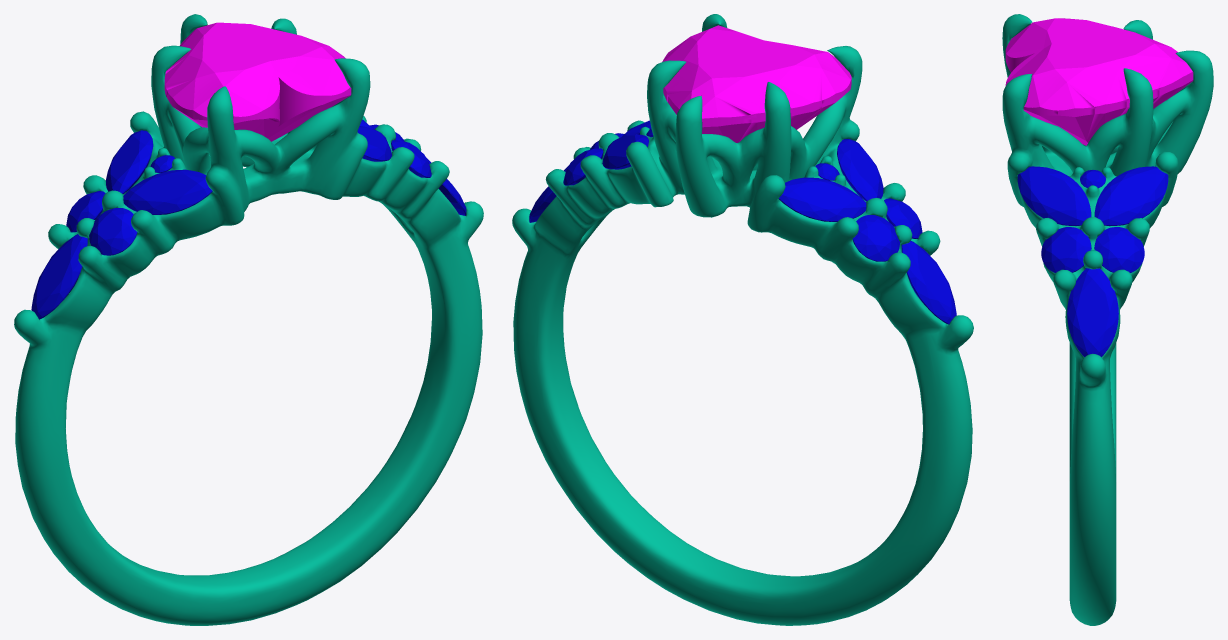
Rendered from BE1D732_HT_200ct_RENDER.glb.
The picture shows the model from 3 angles, left to right: view 1: azimuth 30°, elevation 25°; view 2: azimuth 150°, elevation 25°; view 3: azimuth 270°, elevation 25°; orthographic projection. The views are drawn at different scales.
Visible parts, largest first — view 1: Metal 01, CS_Diamond_Heart, Diamond_Marquise_side.005, Diamond_Marquise_side.003, Diamond_Marquise_side.004, Diamond_Round_side.005, Diamond_Round_side.003, Diamond_Marquise_side; view 2: Metal 01, CS_Diamond_Heart, Diamond_Marquise_side.004, Diamond_Marquise_side.003, Diamond_Marquise_side.005, Diamond_Round_side.003, Diamond_Marquise_side.001, Diamond_Round_side.005; view 3: Metal 01, CS_Diamond_Heart, Diamond_Marquise_side.002, Diamond_Marquise_side.001, Diamond_Marquise_side, Diamond_Round_side, Diamond_Round_side.002, Diamond_Round_side.001.
Part boxes in pixels (x1=…): Metal 01: x1=14, y1=14, x2=483, y2=625; CS_Diamond_Heart: x1=164, y1=22, x2=351, y2=141; Diamond_Marquise_side.005: x1=123, y1=169, x2=212, y2=214; Diamond_Marquise_side.003: x1=31, y1=234, x2=87, y2=319; Diamond_Marquise_side.004: x1=105, y1=130, x2=153, y2=193; Diamond_Round_side.005: x1=89, y1=208, x2=137, y2=255; Diamond_Round_side.003: x1=66, y1=191, x2=105, y2=232; Diamond_Marquise_side: x1=357, y1=126, x2=391, y2=161; Metal 01: x1=512, y1=14, x2=973, y2=625; CS_Diamond_Heart: x1=662, y1=25, x2=851, y2=142; Diamond_Marquise_side.004: x1=778, y1=177, x2=866, y2=221; Diamond_Marquise_side.003: x1=901, y1=241, x2=956, y2=324; Diamond_Marquise_side.005: x1=837, y1=139, x2=883, y2=201; Diamond_Round_side.003: x1=852, y1=215, x2=899, y2=261; Diamond_Marquise_side.001: x1=602, y1=134, x2=648, y2=169; Diamond_Round_side.005: x1=884, y1=198, x2=922, y2=238; Metal 01: x1=1002, y1=14, x2=1213, y2=625; CS_Diamond_Heart: x1=1005, y1=18, x2=1193, y2=145; Diamond_Marquise_side.002: x1=1067, y1=268, x2=1118, y2=357; Diamond_Marquise_side.001: x1=1094, y1=166, x2=1168, y2=226; Diamond_Marquise_side: x1=1017, y1=166, x2=1091, y2=225; Diamond_Round_side: x1=1041, y1=227, x2=1091, y2=272; Diamond_Round_side.002: x1=1094, y1=227, x2=1144, y2=272; Diamond_Round_side.001: x1=1080, y1=170, x2=1105, y2=188.
Size of the model in its own units: 20.31 by 23.79 by 8.16.
